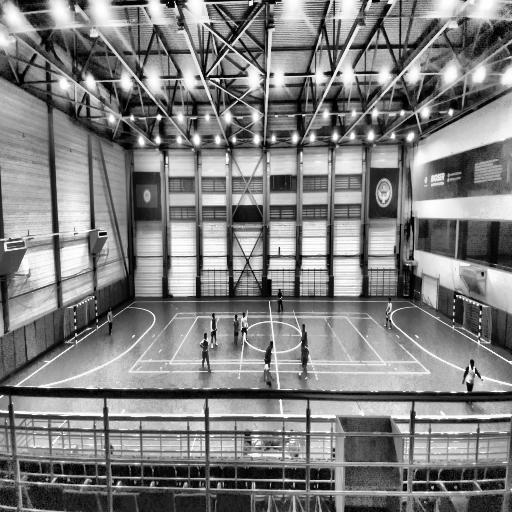ball: (298, 370, 302, 380)
player: (461, 359, 483, 392), (200, 332, 212, 374), (264, 358, 274, 405), (384, 296, 394, 330), (300, 340, 308, 381), (263, 339, 275, 365), (211, 312, 218, 350), (240, 312, 249, 341), (233, 313, 240, 348), (107, 306, 114, 337), (301, 323, 308, 352), (276, 289, 284, 313)
